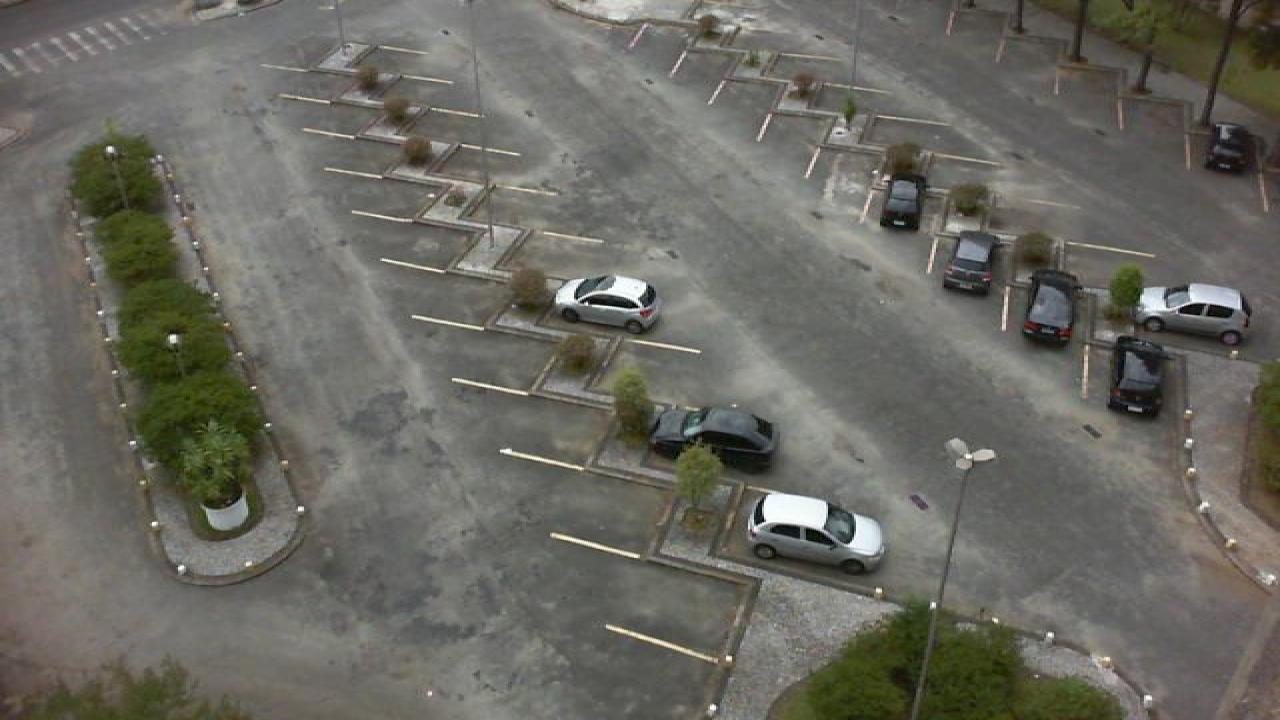Car: (746, 490, 888, 575), (648, 405, 780, 471), (1134, 282, 1252, 346), (550, 272, 662, 332), (1106, 334, 1170, 416), (1020, 269, 1082, 345), (942, 229, 1002, 296), (878, 170, 930, 233), (1204, 122, 1260, 173)
